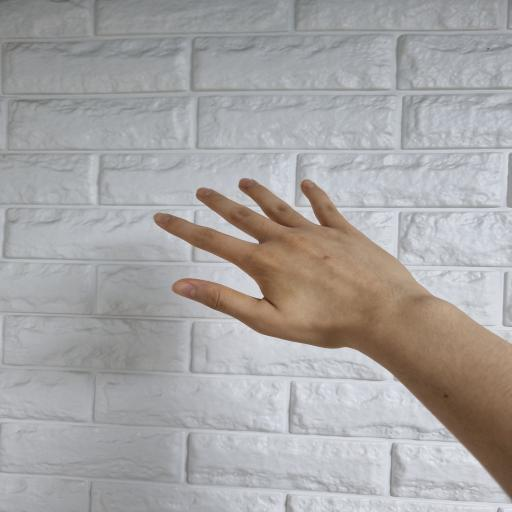Paper: (154, 178, 414, 349)
